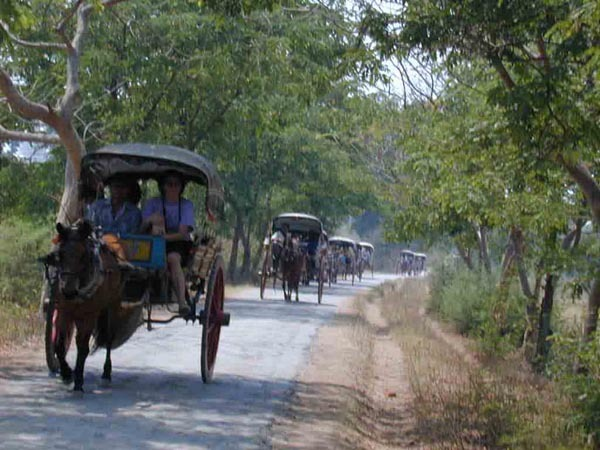horse: (48, 219, 126, 397)
